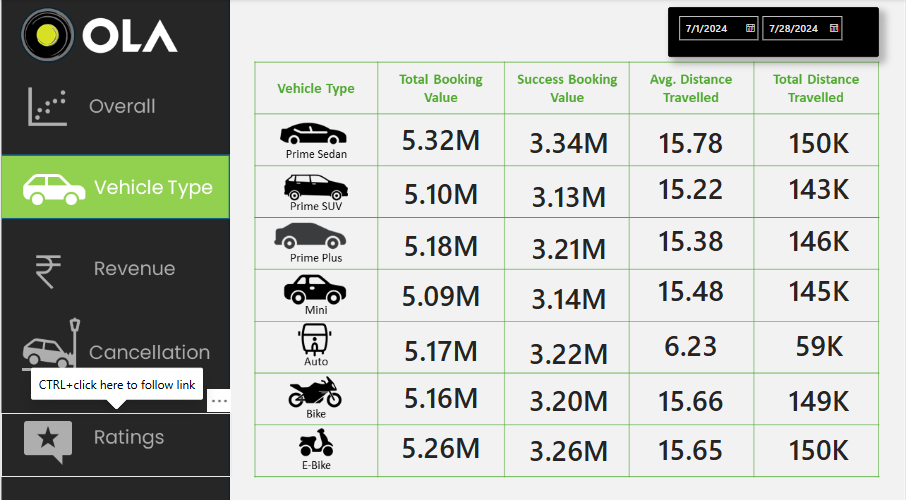

What the dashboard file says about the page in this screenshot:
{"tool":"powerbi","page":{"name":"Vehicle Type","canvas":[1280,720],"ordinal":1},"visuals":[{"type":"actionButton","box":[0,109.1,327.4,90.7],"z":0},{"type":"actionButton","box":[0,335.9,327.4,90.7],"z":1000},{"type":"actionButton","box":[0,452.1,327.4,90.7],"z":2000},{"type":"actionButton","box":[0,576.9,327.4,90.7],"z":3000},{"type":"actionButton","box":[0,586.8,327.4,90.7],"z":4000},{"type":"card","fields":{"Values":["Sum(July.Booking_Value)"]},"box":[538.6,164.4,170.1,66.6],"z":5000},{"type":"card","fields":{"Values":["Sum(July.Booking_Value)"]},"box":[538.6,240.9,170.1,66.6],"z":6000},{"type":"card","fields":{"Values":["Sum(July.Booking_Value)"]},"box":[538.6,314.6,170.1,66.6],"z":7000},{"type":"card","fields":{"Values":["Sum(July.Booking_Value)"]},"box":[538.6,385.5,170.1,66.6],"z":8000},{"type":"card","fields":{"Values":["Sum(July.Booking_Value)"]},"box":[538.6,463.5,170.1,66.6],"z":9000},{"type":"card","fields":{"Values":["Sum(July.Booking_Value)"]},"box":[538.6,530.1,170.1,66.6],"z":10000},{"type":"card","fields":{"Values":["Sum(July.Booking_Value)"]},"box":[538.6,600.9,170.1,66.6],"z":11000},{"type":"card","fields":{"Values":["Sum(July.Booking_Value)"]},"box":[720.1,168.7,170.1,66.6],"z":12000},{"type":"card","fields":{"Values":["Sum(July.Booking_Value)"]},"box":[720.1,245.3,170.1,66.6],"z":13000},{"type":"card","fields":{"Values":["Sum(July.Booking_Value)"]},"box":[720.1,319,170.1,66.6],"z":14000},{"type":"card","fields":{"Values":["Sum(July.Booking_Value)"]},"box":[720.1,389.8,170.1,66.6],"z":15000},{"type":"card","fields":{"Values":["Sum(July.Booking_Value)"]},"box":[720.1,467.8,170.1,66.6],"z":16000},{"type":"card","fields":{"Values":["Sum(July.Booking_Value)"]},"box":[720.1,534.4,170.1,66.6],"z":17000},{"type":"card","fields":{"Values":["Sum(July.Booking_Value)"]},"box":[720.1,605.3,170.1,66.6],"z":18000},{"type":"card","fields":{"Values":["Avg(July.Ride_Distance)"]},"box":[892.7,168.7,170.1,66.6],"z":19000},{"type":"card","fields":{"Values":["Avg(July.Ride_Distance)"]},"box":[892.7,234.1,170.1,66.6],"z":20000},{"type":"card","fields":{"Values":["Avg(July.Ride_Distance)"]},"box":[892.7,307.8,170.1,66.6],"z":21000},{"type":"card","fields":{"Values":["Avg(July.Ride_Distance)"]},"box":[892.7,378.7,170.1,66.6],"z":22000},{"type":"card","fields":{"Values":["Avg(July.Ride_Distance)"]},"box":[892.7,456.7,170.1,66.6],"z":23000},{"type":"card","fields":{"Values":["Avg(July.Ride_Distance)"]},"box":[892.9,535.9,169.7,65.5],"z":24000},{"type":"card","fields":{"Values":["Avg(July.Ride_Distance)"]},"box":[892.9,604.7,169.7,65.5],"z":25000},{"type":"card","fields":{"Values":["Sum(July.Ride_Distance)"]},"box":[1074,168.6,170.1,66.6],"z":26000},{"type":"card","fields":{"Values":["Sum(July.Ride_Distance)"]},"box":[1074,234.1,170.1,66.6],"z":27000},{"type":"card","fields":{"Values":["Sum(July.Ride_Distance)"]},"box":[1074,307.8,170.1,66.6],"z":28000},{"type":"card","fields":{"Values":["Sum(July.Ride_Distance)"]},"box":[1074,378.6,170.1,66.6],"z":29000},{"type":"card","fields":{"Values":["Sum(July.Ride_Distance)"]},"box":[1074,456.6,170.1,66.6],"z":30000},{"type":"card","fields":{"Values":["Sum(July.Ride_Distance)"]},"box":[1074.2,535.8,169.7,65.5],"z":31000},{"type":"card","fields":{"Values":["Sum(July.Ride_Distance)"]},"box":[1074.2,604.6,169.7,65.5],"z":32000},{"type":"slicer","title":"Date","fields":{"Values":["July.Date"]},"box":[945.4,11.3,299.1,70.9],"z":33000}]}

Visuals, with their boxes on the page's 1280x720 design canvas (x1, y1, x2, y2). These are canvas units, not pixel positions in the 906x500 screenshot, which may show the page scaled, cropped or inside an application window:
actionButton: (x1=0, y1=109, x2=327, y2=200)
actionButton: (x1=0, y1=336, x2=327, y2=427)
actionButton: (x1=0, y1=452, x2=327, y2=543)
actionButton: (x1=0, y1=577, x2=327, y2=668)
actionButton: (x1=0, y1=587, x2=327, y2=678)
card - Sum(July.Booking_Value): (x1=539, y1=164, x2=709, y2=231)
card - Sum(July.Booking_Value): (x1=539, y1=241, x2=709, y2=308)
card - Sum(July.Booking_Value): (x1=539, y1=315, x2=709, y2=381)
card - Sum(July.Booking_Value): (x1=539, y1=386, x2=709, y2=452)
card - Sum(July.Booking_Value): (x1=539, y1=464, x2=709, y2=530)
card - Sum(July.Booking_Value): (x1=539, y1=530, x2=709, y2=597)
card - Sum(July.Booking_Value): (x1=539, y1=601, x2=709, y2=668)
card - Sum(July.Booking_Value): (x1=720, y1=169, x2=890, y2=235)
card - Sum(July.Booking_Value): (x1=720, y1=245, x2=890, y2=312)
card - Sum(July.Booking_Value): (x1=720, y1=319, x2=890, y2=386)
card - Sum(July.Booking_Value): (x1=720, y1=390, x2=890, y2=456)
card - Sum(July.Booking_Value): (x1=720, y1=468, x2=890, y2=534)
card - Sum(July.Booking_Value): (x1=720, y1=534, x2=890, y2=601)
card - Sum(July.Booking_Value): (x1=720, y1=605, x2=890, y2=672)
card - Avg(July.Ride_Distance): (x1=893, y1=169, x2=1063, y2=235)
card - Avg(July.Ride_Distance): (x1=893, y1=234, x2=1063, y2=301)
card - Avg(July.Ride_Distance): (x1=893, y1=308, x2=1063, y2=374)
card - Avg(July.Ride_Distance): (x1=893, y1=379, x2=1063, y2=445)
card - Avg(July.Ride_Distance): (x1=893, y1=457, x2=1063, y2=523)
card - Avg(July.Ride_Distance): (x1=893, y1=536, x2=1063, y2=601)
card - Avg(July.Ride_Distance): (x1=893, y1=605, x2=1063, y2=670)
card - Sum(July.Ride_Distance): (x1=1074, y1=169, x2=1244, y2=235)
card - Sum(July.Ride_Distance): (x1=1074, y1=234, x2=1244, y2=301)
card - Sum(July.Ride_Distance): (x1=1074, y1=308, x2=1244, y2=374)
card - Sum(July.Ride_Distance): (x1=1074, y1=379, x2=1244, y2=445)
card - Sum(July.Ride_Distance): (x1=1074, y1=457, x2=1244, y2=523)
card - Sum(July.Ride_Distance): (x1=1074, y1=536, x2=1244, y2=601)
card - Sum(July.Ride_Distance): (x1=1074, y1=605, x2=1244, y2=670)
"Date" slicer: (x1=945, y1=11, x2=1244, y2=82)
